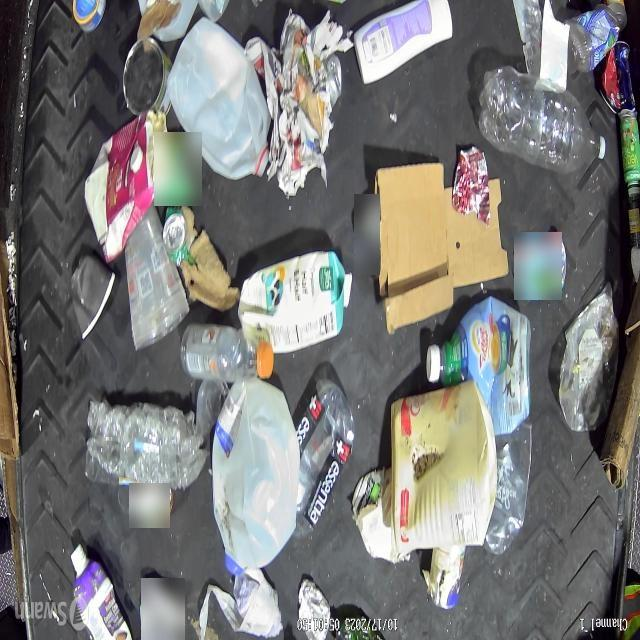milk_jug: (210, 380, 300, 574), (167, 20, 269, 185)
non_white_jug: (242, 251, 352, 355)
plastic_bottle: (477, 66, 605, 170), (182, 324, 270, 384), (570, 5, 624, 72)
